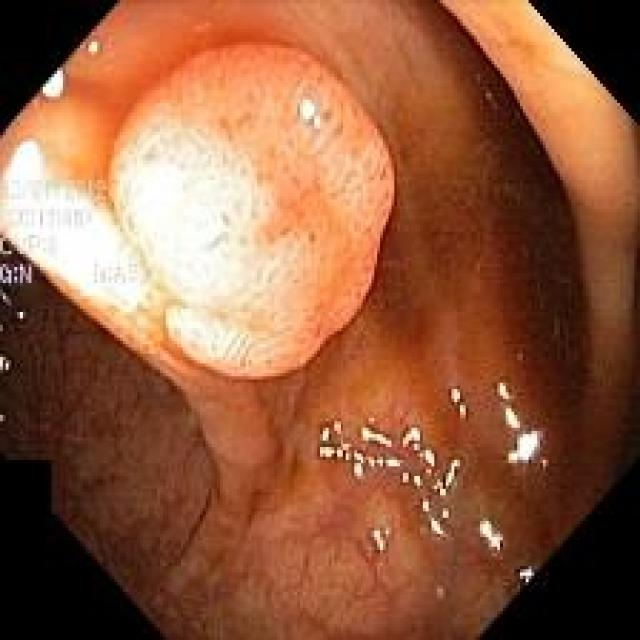Polyps: (102, 44, 394, 378)
